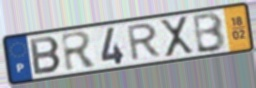4: (99, 25, 127, 67)
B: (192, 10, 228, 55), (28, 35, 64, 77)
R: (59, 30, 99, 74), (126, 21, 164, 64)
X: (158, 14, 196, 60)
